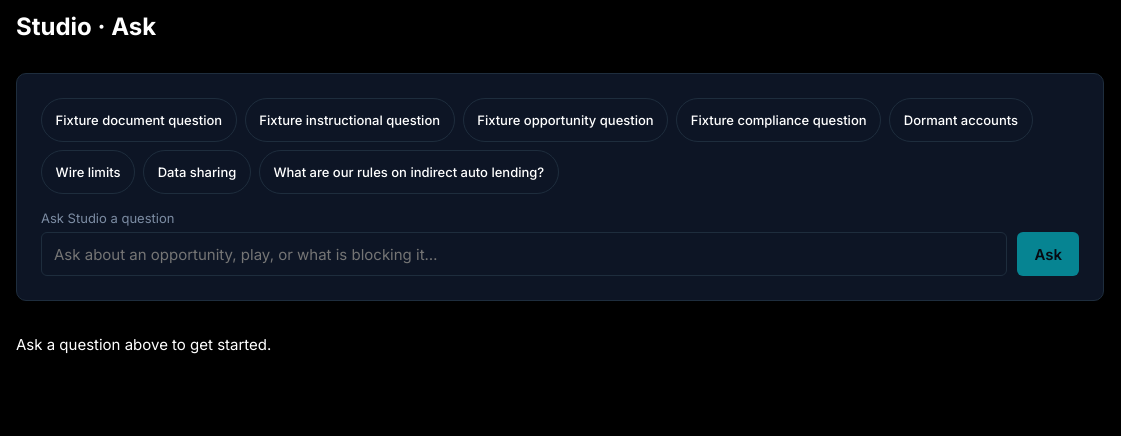
AC-A20-5 — layout-per-type (four fixture entries, one per responseType) › instructional renders with deepLinks omitted and shows no Artifacts list
Type "Fixture instructional question" into the field labelled "Ask Studio a question" at (524, 254), box [41, 232, 1007, 276]
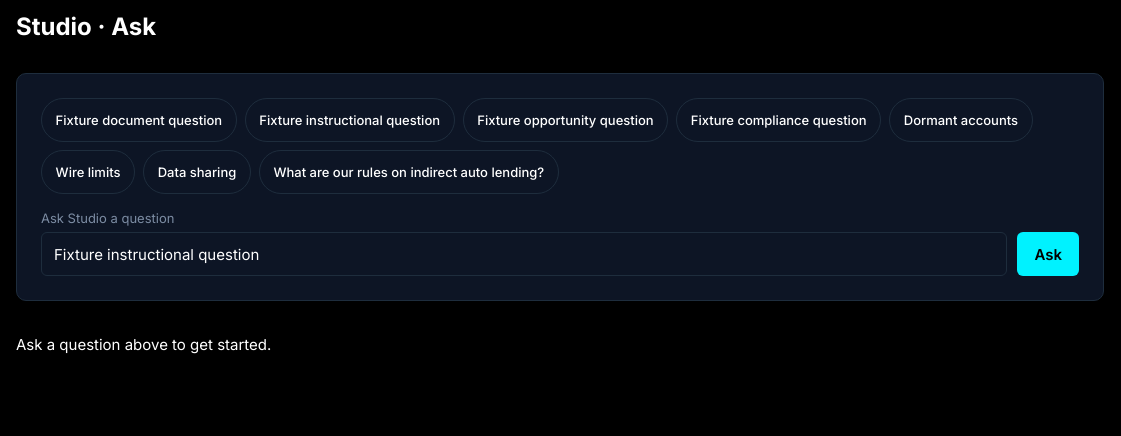
Click the button "Ask" at (1048, 254), box [1017, 232, 1079, 276]
Wait 800 ms
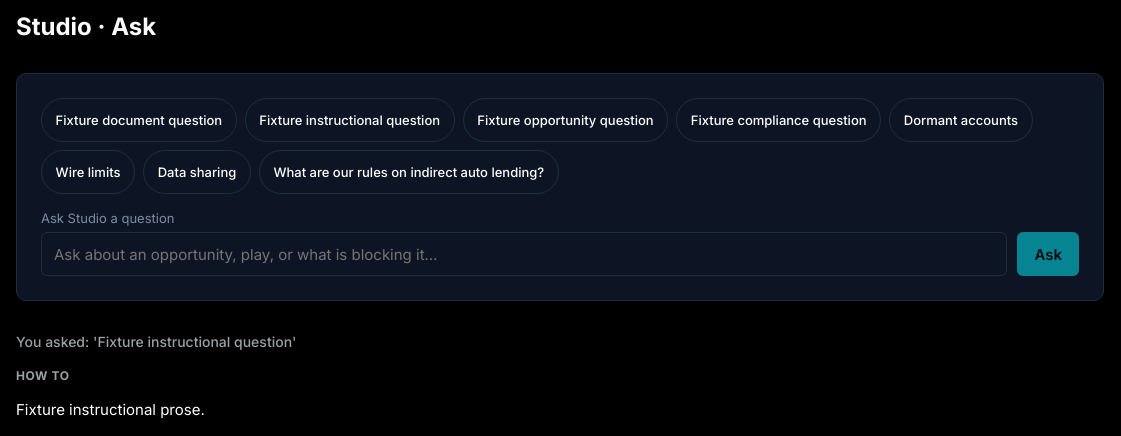
Check: the text "Fixture instructional prose." is shown, box [16, 400, 205, 419]
